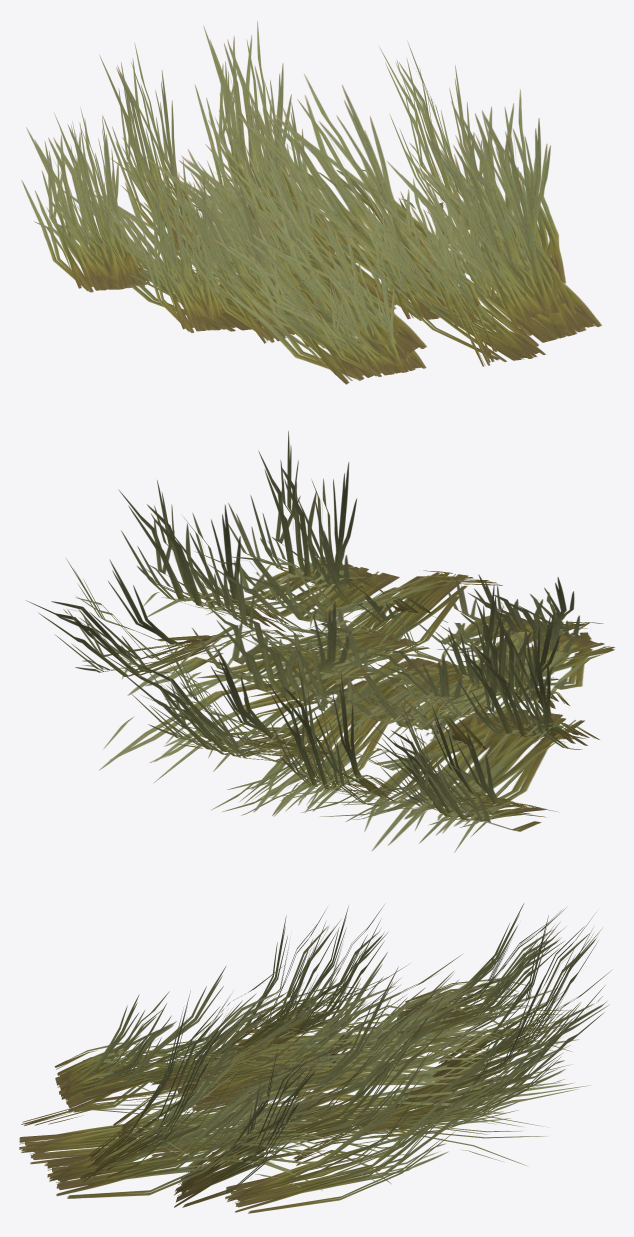
The model's file is small_grass_chunk.gltf.
3 renders of one model, top to bottom at view 1: azimuth 30°, elevation 25°; view 2: azimuth 150°, elevation 25°; view 3: azimuth 270°, elevation 25°, orthographic. The views are drawn at different scales.
Visible parts, largest first — view 1: Grass_Med_142, Grass_High_122, Grass_Med_181, Grass_High_200, Grass_Med_106, Grass_Med_85, Grass_Med_103, Grass_High_104, Grass_Med_127, Grass_High_140, Grass_Med_202, Grass_High_101 (+12 smaller); view 2: Grass_Med_124, Grass_High_122, Grass_High_200, Grass_Med_202, Grass_Med_181, Grass_High_101, Grass_High_104, Grass_Med_85, Grass_Med_127, Grass_High_182, Grass_High_164, Grass_Med_106 (+17 smaller); view 3: Grass_High_200, Grass_High_182, Grass_High_101, Grass_High_122, Grass_Med_124, Grass_Med_142, Grass_High_104, Grass_Med_100, Grass_Med_121, Grass_Med_202, Grass_High_140, Grass_Med_181 (+17 smaller).
Boxes of the visible parts, x1,y1,x2,y2 form: Grass_Med_142: (214,198,426,384); Grass_High_122: (235,74,465,305); Grass_Med_181: (430,113,576,335); Grass_High_200: (387,135,601,346); Grass_Med_106: (21,118,145,292); Grass_Med_85: (132,159,230,332); Grass_Med_103: (168,161,295,343); Grass_High_104: (195,21,298,246); Grass_Med_127: (99,43,201,255); Grass_High_140: (340,192,545,361); Grass_Med_202: (440,89,565,283); Grass_High_101: (145,120,396,309); Grass_Med_124: (301,709,584,852); Grass_High_122: (192,560,366,718); Grass_High_200: (194,503,399,632); Grass_Med_202: (118,480,300,634); Grass_Med_181: (250,431,384,603); Grass_High_101: (303,621,491,744); Grass_High_104: (105,639,346,764); Grass_Med_85: (451,621,599,757); Grass_Med_127: (263,659,404,811); Grass_High_182: (26,558,227,676); Grass_High_164: (211,682,404,816); Grass_Med_106: (369,713,557,843); Grass_High_200: (47,1026,319,1198); Grass_High_182: (225,1049,516,1213); Grass_High_101: (177,952,485,1115); Grass_High_122: (236,966,470,1161); Grass_Med_124: (231,978,579,1102); Grass_Med_142: (74,966,302,1102); Grass_High_104: (384,970,611,1129); Grass_Med_100: (54,991,186,1112); Grass_Med_121: (150,957,415,1096); Grass_Med_202: (174,1041,319,1207); Grass_High_140: (19,1050,341,1165); Grass_Med_181: (80,991,232,1185).
Bounding box in the file's own units: 1.39 × 0.6256 × 1.59.
Materials: 1 (1 with a texture image).
